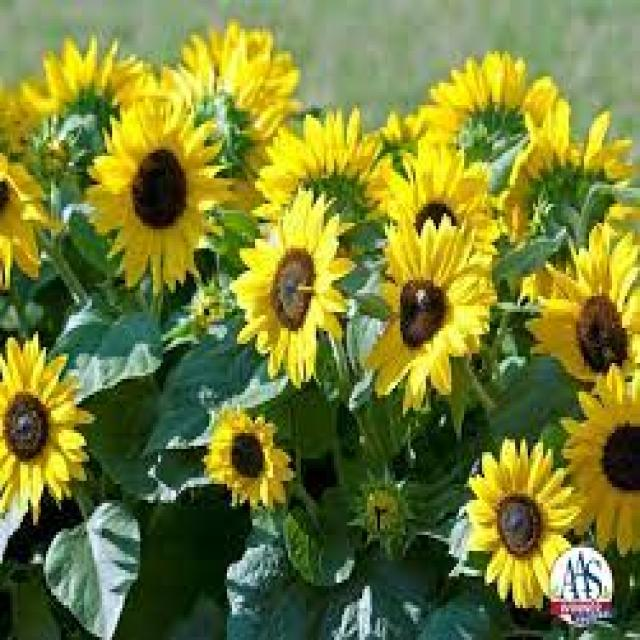sunflower: (79, 83, 233, 314), (357, 209, 506, 420), (244, 103, 419, 282), (141, 15, 316, 185), (226, 185, 359, 391), (479, 89, 640, 255), (403, 42, 560, 208), (458, 435, 586, 619), (522, 214, 640, 396), (10, 30, 154, 176), (0, 326, 98, 535), (546, 350, 640, 564), (373, 132, 501, 286), (203, 391, 301, 529), (0, 134, 61, 299)
